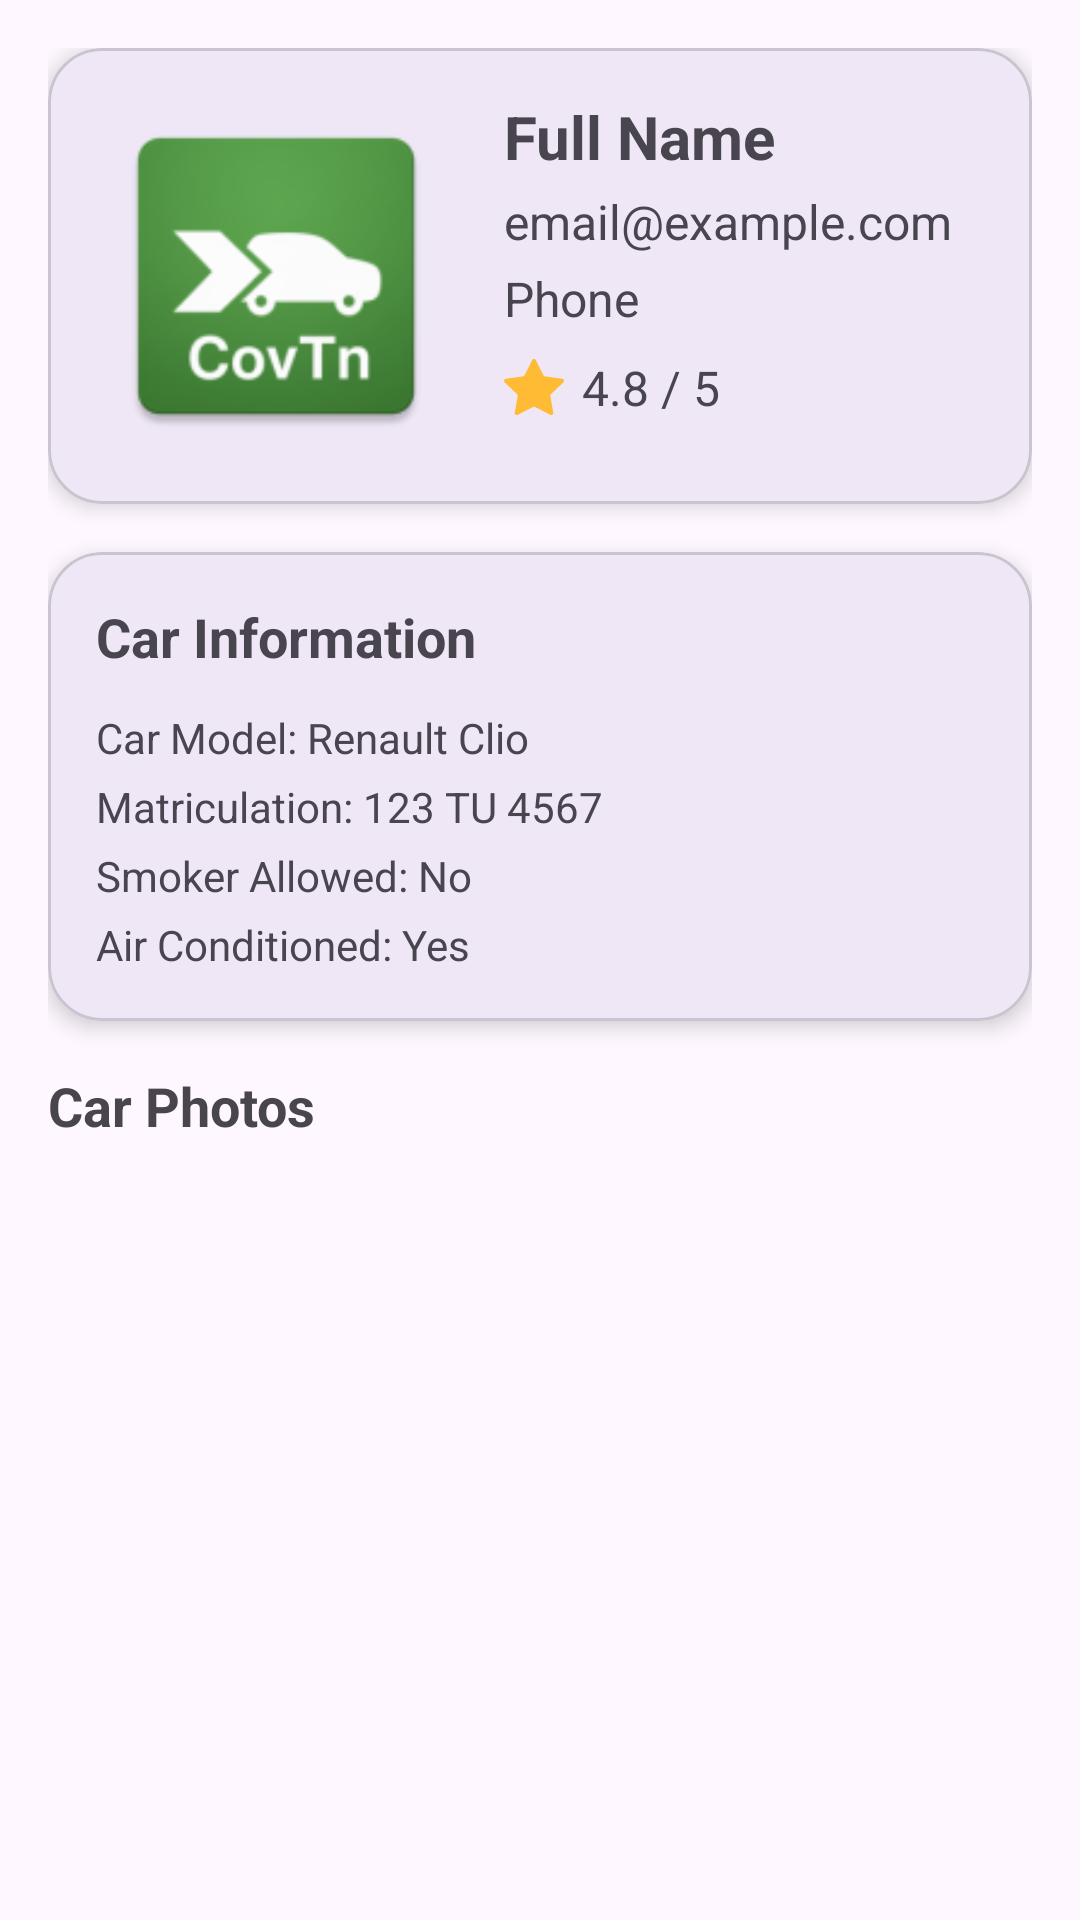

Icons on this 1080 × 1920 Android screen, each with its box as {"x1": x1, "y1": y1, "x2": x2, "y2": y2}:
star: {"x1": 504, "y1": 359, "x2": 564, "y2": 415}
